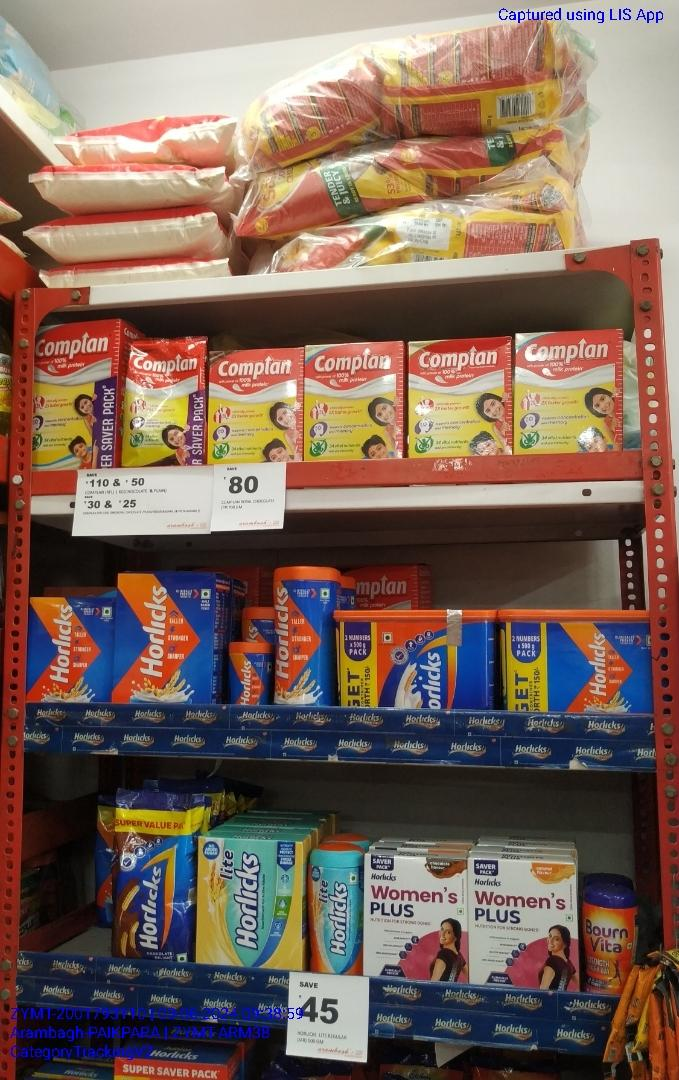BOURN_VITA_500_G_JAR: (582, 891, 629, 994)
COMPLAN_CREAMY_CLASSIC_500_G_PACK: (516, 333, 625, 451), (306, 345, 406, 459)
COMPLAN_KESAR_BADAM_500_GMS_PACK: (408, 342, 512, 452), (206, 351, 301, 463)
COMPLAN_RC_POUCH_700_GMS_12: (125, 338, 204, 465)
HORLICKS_LITE_REGULAR_MALT_500_GM_JAR: (311, 850, 362, 976)
HORLICK_CHOCOLATE_750_G_POUCH: (113, 789, 192, 961)
HORLICK_CLASSIC_MALT_200_G_JAR: (231, 642, 269, 705)
HORLICK_CLASSIC_MALT_500_G_JAR: (275, 567, 337, 707)
HORLICK_CLASSIC_MALT_500_G_PACK: (32, 597, 114, 702)
HORLICK_MALT_1_KG_CONTAINER: (337, 610, 497, 708), (503, 609, 652, 714)
